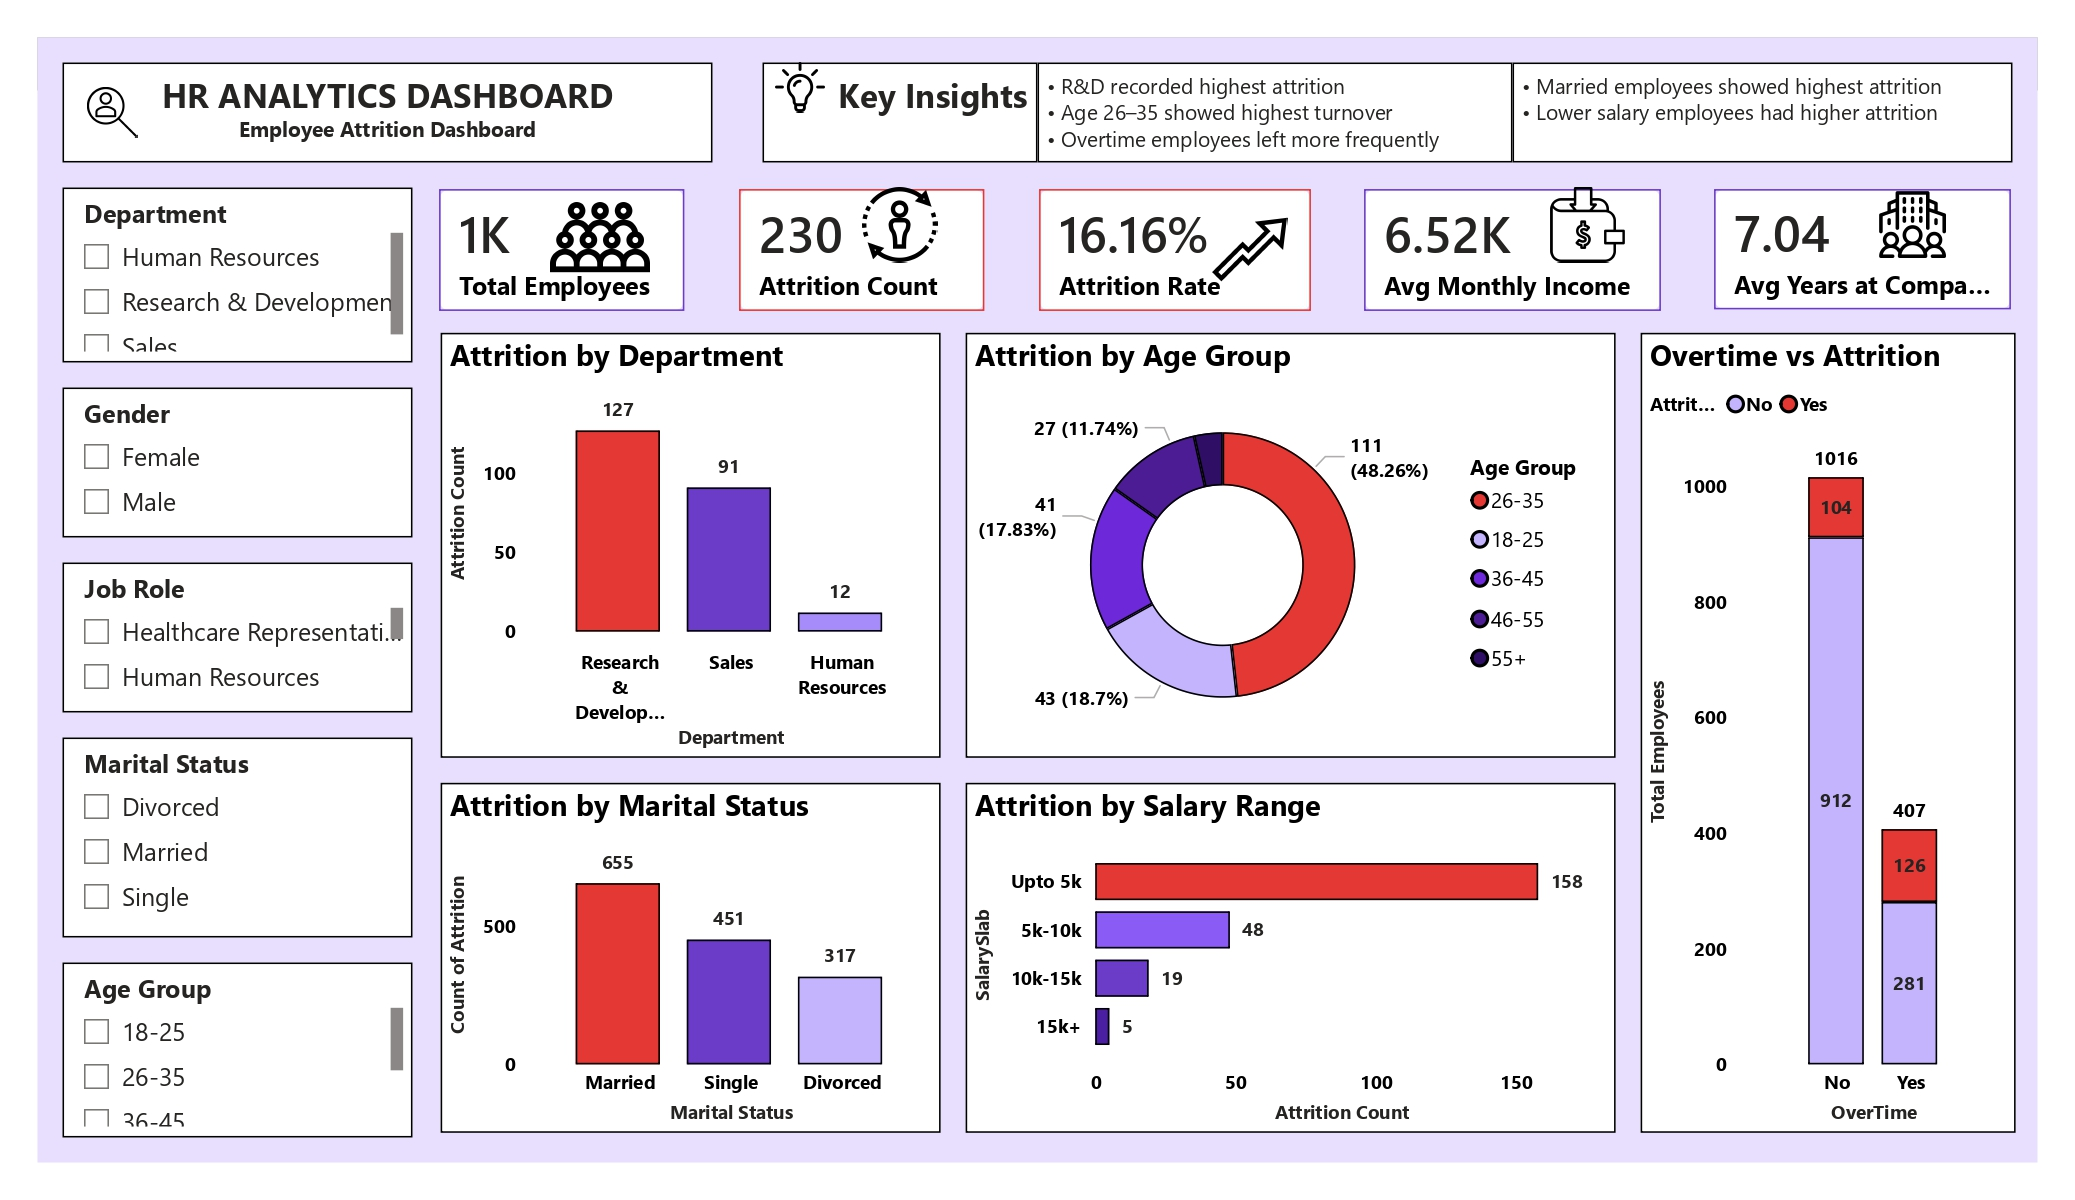

Layout of this report page (visuals, bound fields, positions):
{"tool":"powerbi","page":{"name":"Page 1","canvas":[1280,720],"ordinal":0},"visuals":[{"type":"cardVisual","fields":{"Data":["HR_Analytics.Total Employees"]},"box":[240,80,192,112],"z":0},{"type":"cardVisual","fields":{"Data":["HR_Analytics.Attrition Count"]},"box":[432,80,192,112],"z":1000},{"type":"cardVisual","fields":{"Data":["HR_Analytics.Attrition Rate"]},"box":[624,80,208,112],"z":2000},{"type":"cardVisual","fields":{"Data":["HR_Analytics.Avg Monthly Income"]},"box":[832,80,224,112],"z":3000},{"type":"cardVisual","fields":{"Data":["HR_Analytics.Avg Years at Company"]},"box":[1055.7,80,224.3,111.4],"z":4000},{"type":"clusteredColumnChart","title":"Attrition by Department","fields":{"Category":["HR_Analytics.Department"],"Y":["HR_Analytics.Attrition Count"]},"box":[257.6,188.8,320,272],"z":5000},{"type":"donutChart","title":"Attrition by Age Group","fields":{"Category":["HR_Analytics.AgeGroup"],"Y":["HR_Analytics.Attrition Count"]},"box":[593.6,188.8,416,272],"z":6000},{"type":"columnChart","title":"Overtime vs Attrition","fields":{"Category":["HR_Analytics.OverTime"],"Series":["HR_Analytics.Attrition"],"Y":["HR_Analytics.Total Employees"]},"box":[1025.6,188.8,240,512],"z":7000},{"type":"clusteredColumnChart","title":"Attrition by Marital Status","fields":{"Category":["HR_Analytics.MaritalStatus"],"Y":["CountNonNull(HR_Analytics.Attrition)"]},"box":[257.6,476.8,320,224],"z":8000},{"type":"clusteredBarChart","title":"Attrition by Salary Range","fields":{"Category":["HR_Analytics.SalarySlab"],"Y":["HR_Analytics.Attrition Count"]},"box":[593.6,476.8,416,224],"z":9000},{"type":"slicer","fields":{"Values":["HR_Analytics.Department"]},"box":[16,96,224,112],"z":10000},{"type":"slicer","fields":{"Values":["HR_Analytics.Gender"]},"box":[16,224,224,96],"z":11000},{"type":"slicer","fields":{"Values":["HR_Analytics.JobRole"]},"box":[16,336,224,96],"z":12000},{"type":"slicer","fields":{"Values":["HR_Analytics.MaritalStatus"]},"box":[16,448,224,128],"z":13000},{"type":"slicer","fields":{"Values":["HR_Analytics.AgeGroup"]},"box":[16,592,224,112],"z":14000},{"type":"textbox","box":[16,16,416,64],"z":15000},{"type":"image","box":[320,96,80,64],"z":16000},{"type":"image","box":[528,96,48,48],"z":17000},{"type":"image","box":[736,112,80,48],"z":18000},{"type":"image","box":[960,96,64,48],"z":19000},{"type":"image","box":[1168,96,64,48],"z":20000},{"type":"image","box":[16,32,64,32],"z":21000},{"type":"textbox","box":[640,16,304,64],"z":22000},{"type":"textbox","box":[944,16,320,64],"z":23000},{"type":"textbox","box":[464,16,176,64],"z":24000},{"type":"image","box":[448,16,80,32],"z":25000}]}

Visuals, with their boxes on the page's 1280x720 design canvas (x1, y1, x2, y2). These are canvas units, not pixel positions in the 2075x1200 screenshot, which may show the page scaled, cropped or inside an application window:
cardVisual - HR_Analytics.Total Employees: 240, 80, 432, 192
cardVisual - HR_Analytics.Attrition Count: 432, 80, 624, 192
cardVisual - HR_Analytics.Attrition Rate: 624, 80, 832, 192
cardVisual - HR_Analytics.Avg Monthly Income: 832, 80, 1056, 192
cardVisual - HR_Analytics.Avg Years at Company: 1056, 80, 1280, 191
"Attrition by Department" clusteredColumnChart: 258, 189, 578, 461
"Attrition by Age Group" donutChart: 594, 189, 1010, 461
"Overtime vs Attrition" columnChart: 1026, 189, 1266, 701
"Attrition by Marital Status" clusteredColumnChart: 258, 477, 578, 701
"Attrition by Salary Range" clusteredBarChart: 594, 477, 1010, 701
slicer - HR_Analytics.Department: 16, 96, 240, 208
slicer - HR_Analytics.Gender: 16, 224, 240, 320
slicer - HR_Analytics.JobRole: 16, 336, 240, 432
slicer - HR_Analytics.MaritalStatus: 16, 448, 240, 576
slicer - HR_Analytics.AgeGroup: 16, 592, 240, 704
textbox: 16, 16, 432, 80
image: 320, 96, 400, 160
image: 528, 96, 576, 144
image: 736, 112, 816, 160
image: 960, 96, 1024, 144
image: 1168, 96, 1232, 144
image: 16, 32, 80, 64
textbox: 640, 16, 944, 80
textbox: 944, 16, 1264, 80
textbox: 464, 16, 640, 80
image: 448, 16, 528, 48
